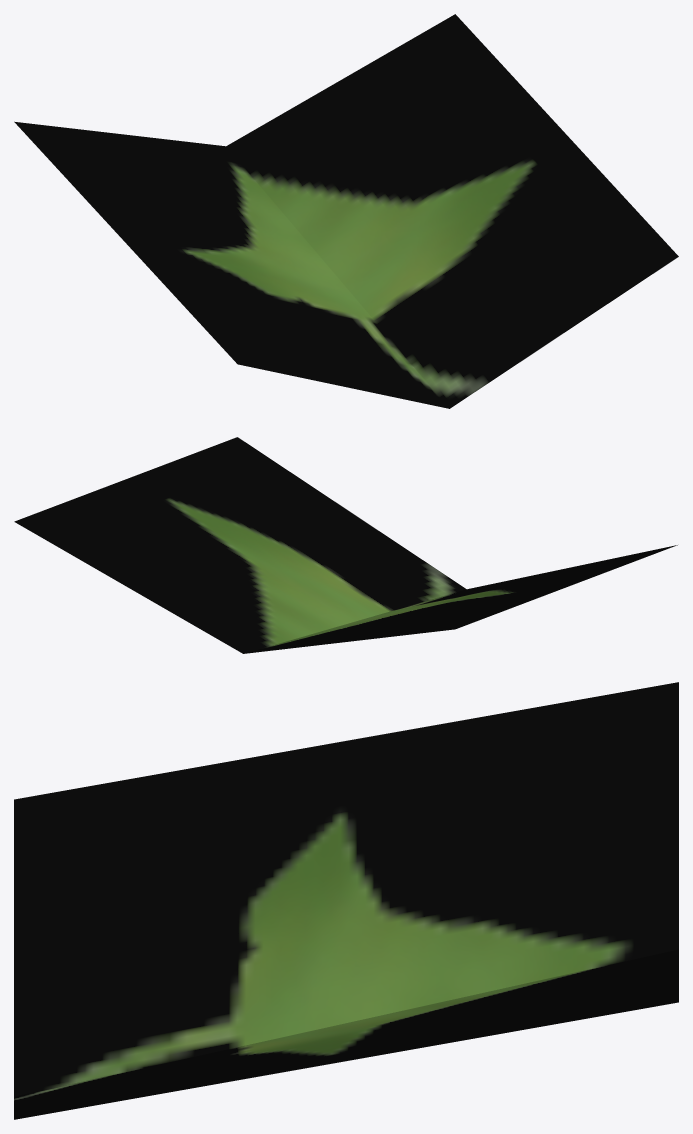
The model's file is Leaf_Ivy_A.fbx.
3 renders of one model, top to bottom at view 1: azimuth 30°, elevation 25°; view 2: azimuth 150°, elevation 25°; view 3: azimuth 270°, elevation 25°, orthographic. The views are drawn at different scales.
Parts seen in each view (by area): view 1: Leaf_Ivy_A; view 2: Leaf_Ivy_A; view 3: Leaf_Ivy_A.
Boxes of the visible parts, x1,y1,x2,y2 form: Leaf_Ivy_A: (14, 14, 678, 408); Leaf_Ivy_A: (14, 437, 677, 653); Leaf_Ivy_A: (14, 682, 678, 1119).
Bounding box in the file's own units: 44.73 × 16.97 × 39.24.
